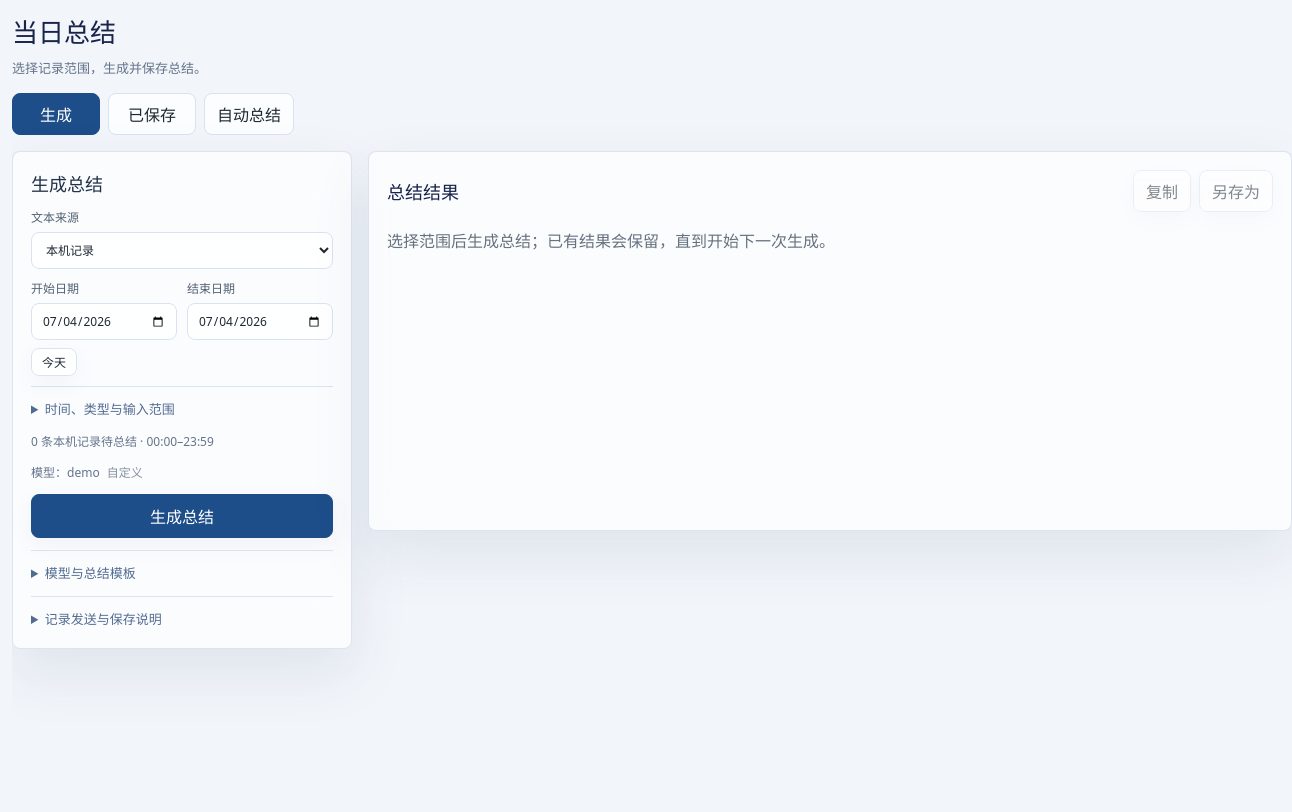
Test: summary source and automatic log persistence › uses local records explicitly and auto-saves every generated summary
The image size is (1292, 812).
Click the button "生成总结" at (182, 516), box [31, 494, 333, 538]
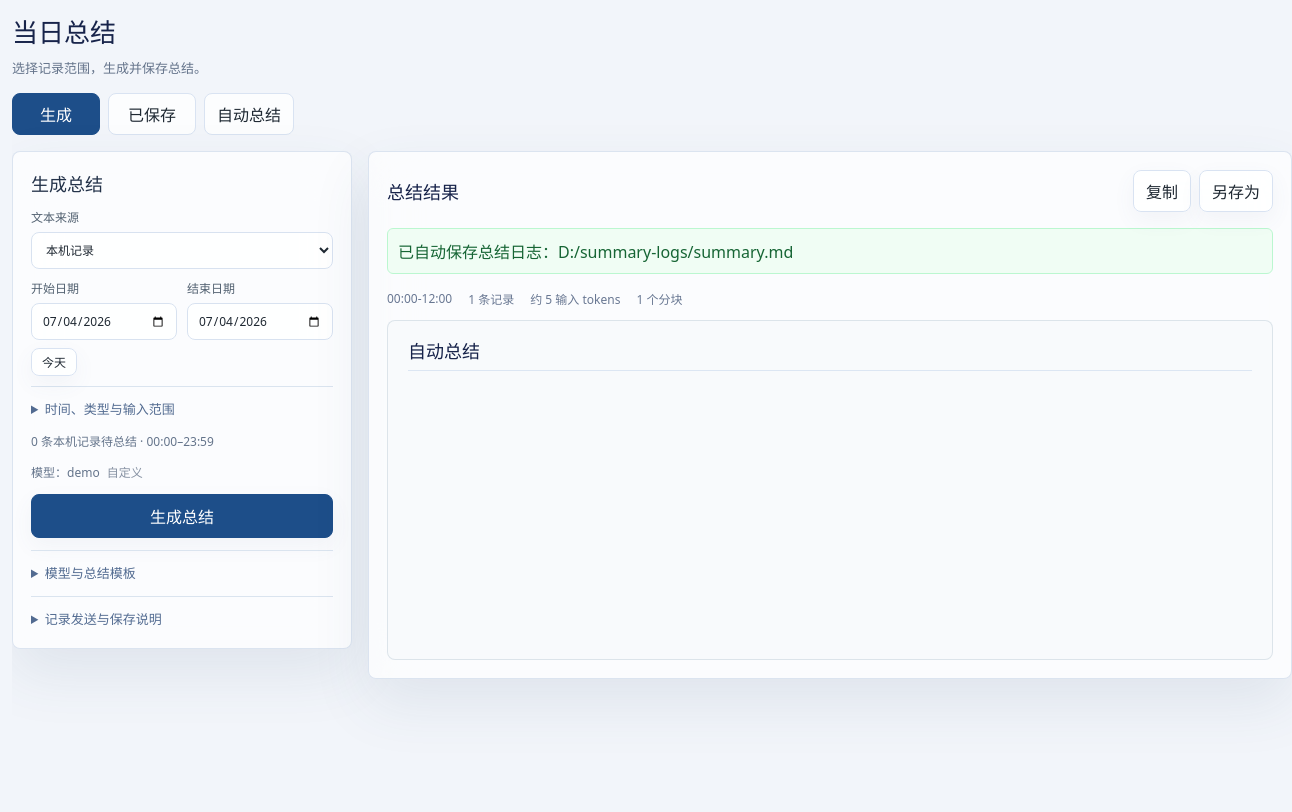
Expected: the text "已自动保存总结日志：D:/summary-logs/summary.md" is shown, [387, 228, 1273, 274]
